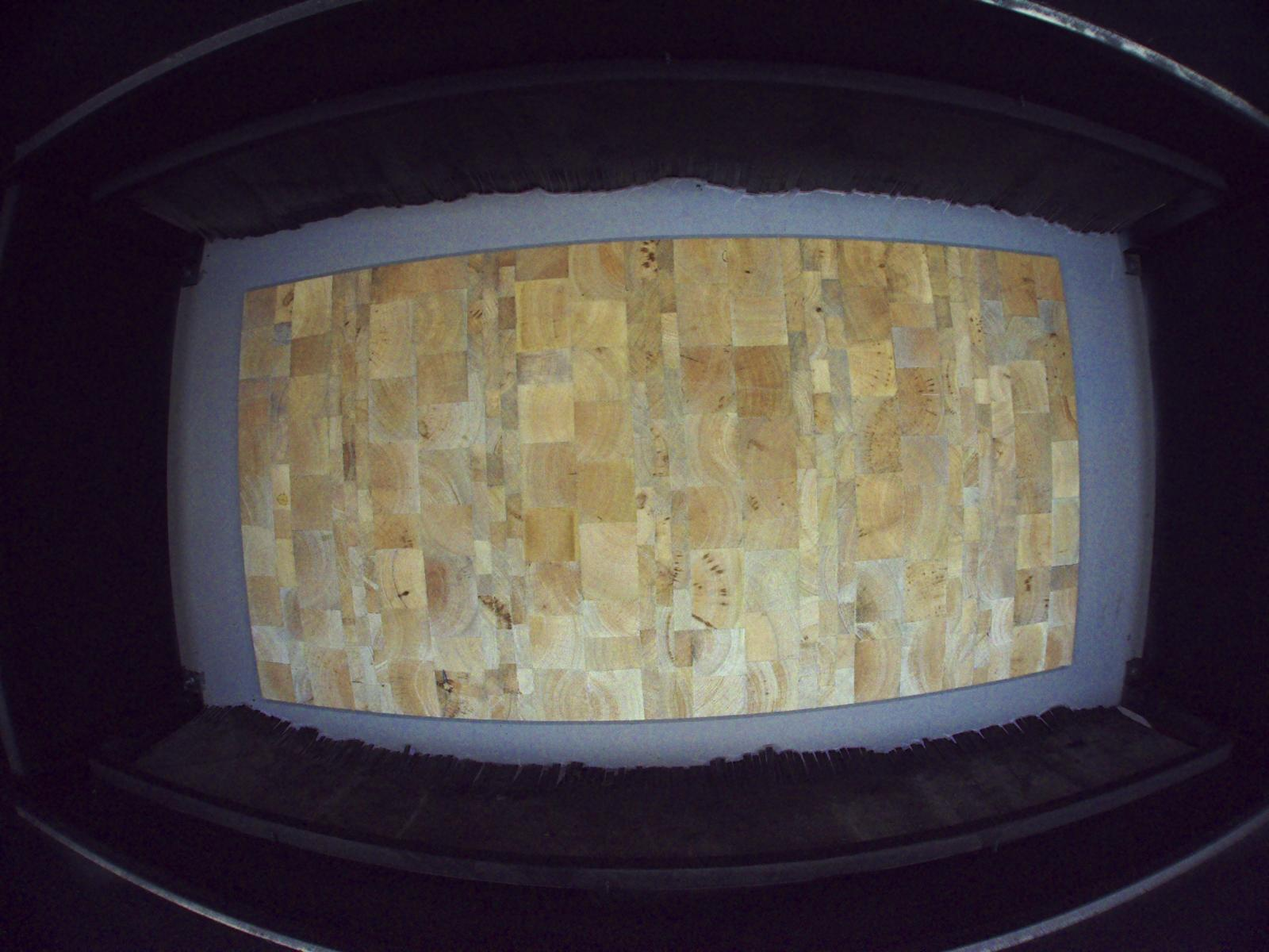nudillo: (436, 677, 462, 696)
sheck_ecuatoriano: (391, 548, 412, 610)
